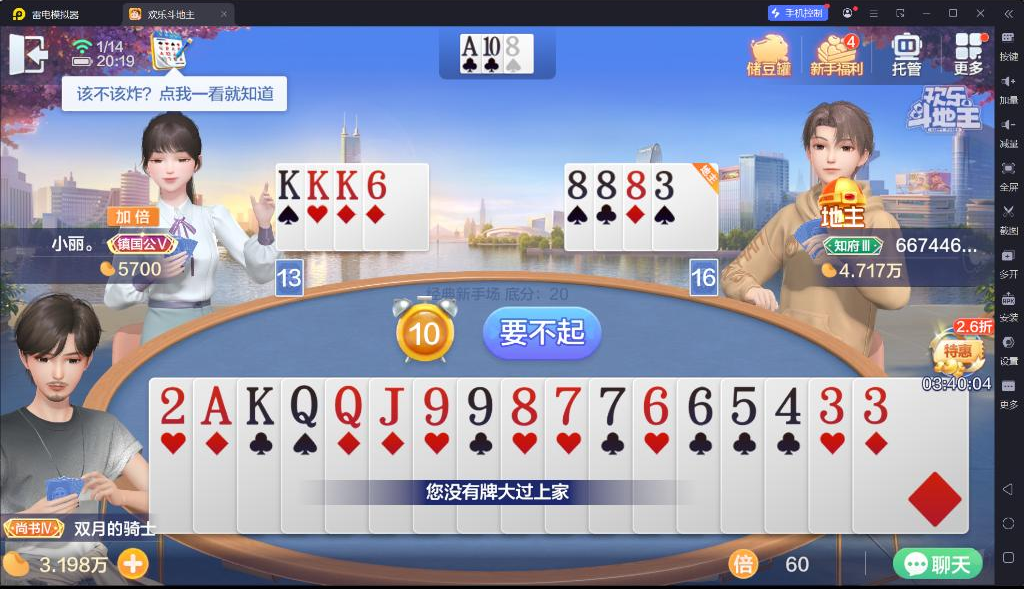A: (199, 382, 234, 428), (461, 35, 479, 58)
J: (374, 385, 406, 428)
K: (243, 383, 276, 427), (305, 167, 331, 201), (277, 167, 302, 201), (336, 168, 361, 202)
Q: (286, 383, 322, 429), (332, 384, 365, 431)
eight: (506, 382, 540, 428), (565, 168, 589, 201), (595, 168, 619, 201), (626, 170, 648, 201), (504, 35, 521, 57)
five: (727, 380, 759, 427)
four: (771, 380, 803, 426)
nine: (418, 383, 452, 429), (463, 384, 493, 428)
seven: (595, 381, 627, 426), (552, 382, 582, 428)
six: (637, 381, 671, 426), (685, 382, 716, 428), (364, 169, 389, 202)
ten: (482, 35, 502, 58)
three: (860, 382, 889, 428), (816, 382, 846, 425), (653, 169, 676, 202)
two: (158, 382, 187, 426)
